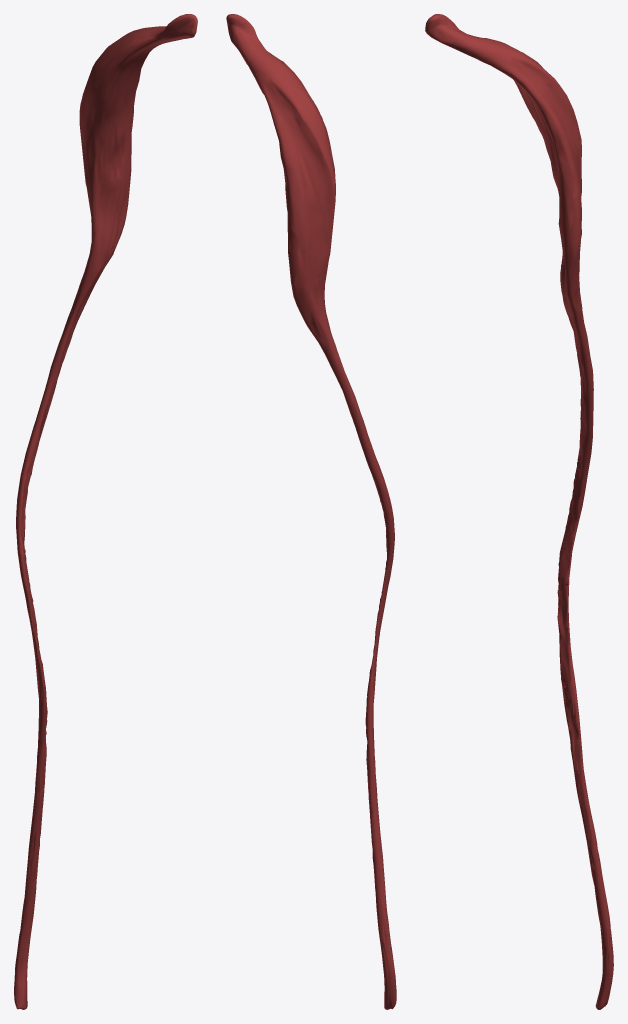
File: plantaris-muscle-l.glb
3 renders of one model, left to right at view 1: azimuth 30°, elevation 25°; view 2: azimuth 210°, elevation 25°; view 3: azimuth 270°, elevation 25°, orthographic. The views are drawn at different scales.
Visible parts, largest first — view 1: Plantaris muscle.l; view 2: Plantaris muscle.l; view 3: Plantaris muscle.l.
Boxes of the visible parts, x1=… form: Plantaris muscle.l: x1=14, y1=14, x2=197, y2=1009; Plantaris muscle.l: x1=226, y1=14, x2=396, y2=1009; Plantaris muscle.l: x1=425, y1=14, x2=613, y2=1009.
Bounding box in the file's own units: 0.0549 × 0.4823 × 0.0797.
